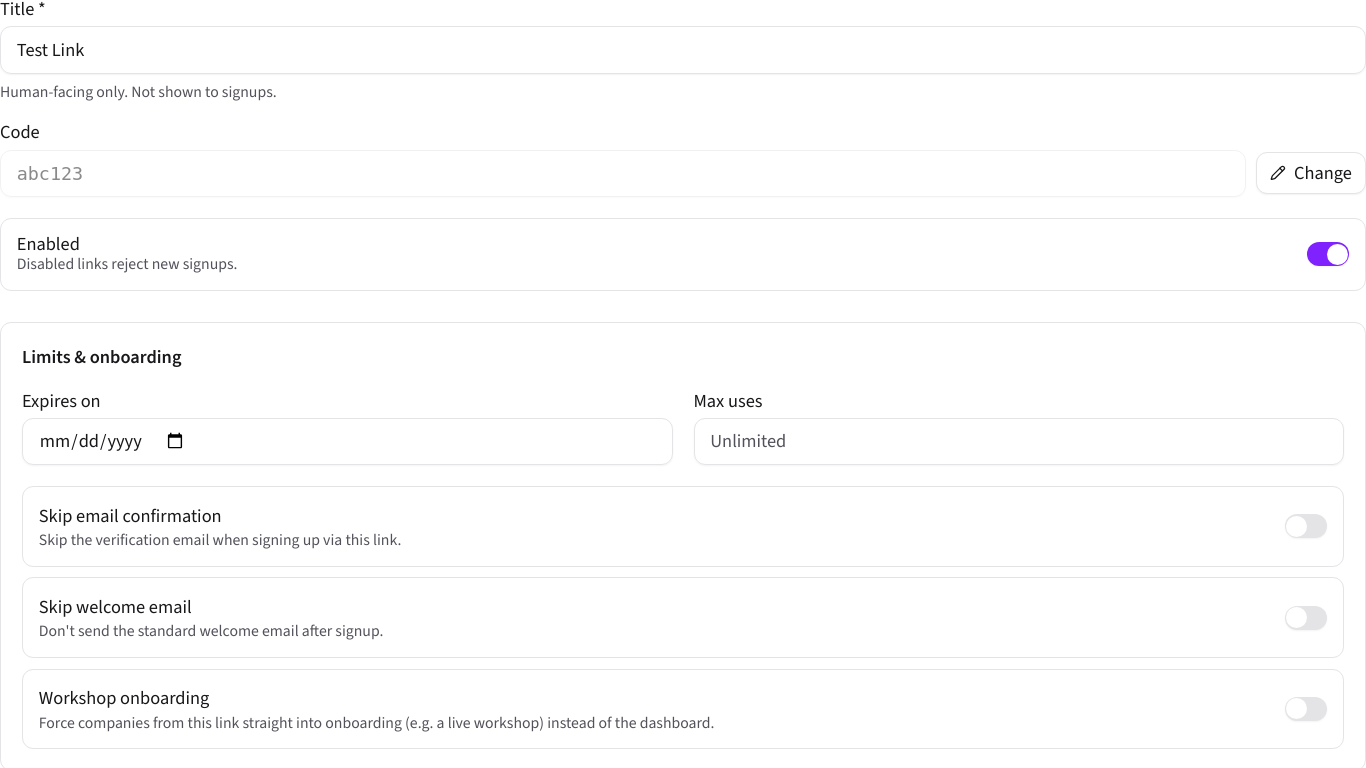
Scenario: SignupLinkForm — edit › confirming the dialog unlocks the code field for editing
Click the button "Change". click: x=1311, y=173
box: [1256,152,1365,194]
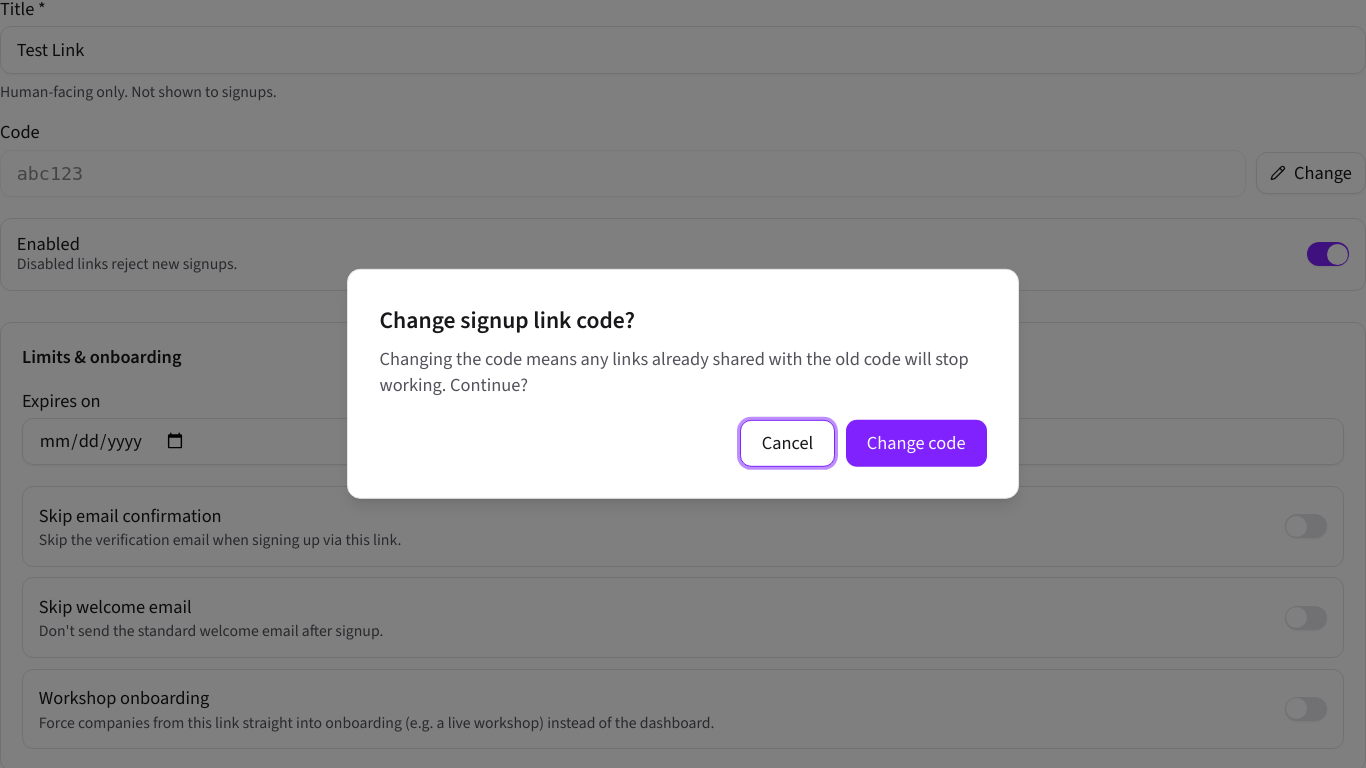
Click the button "Change code". click: x=916, y=443
box: [846,419,986,467]
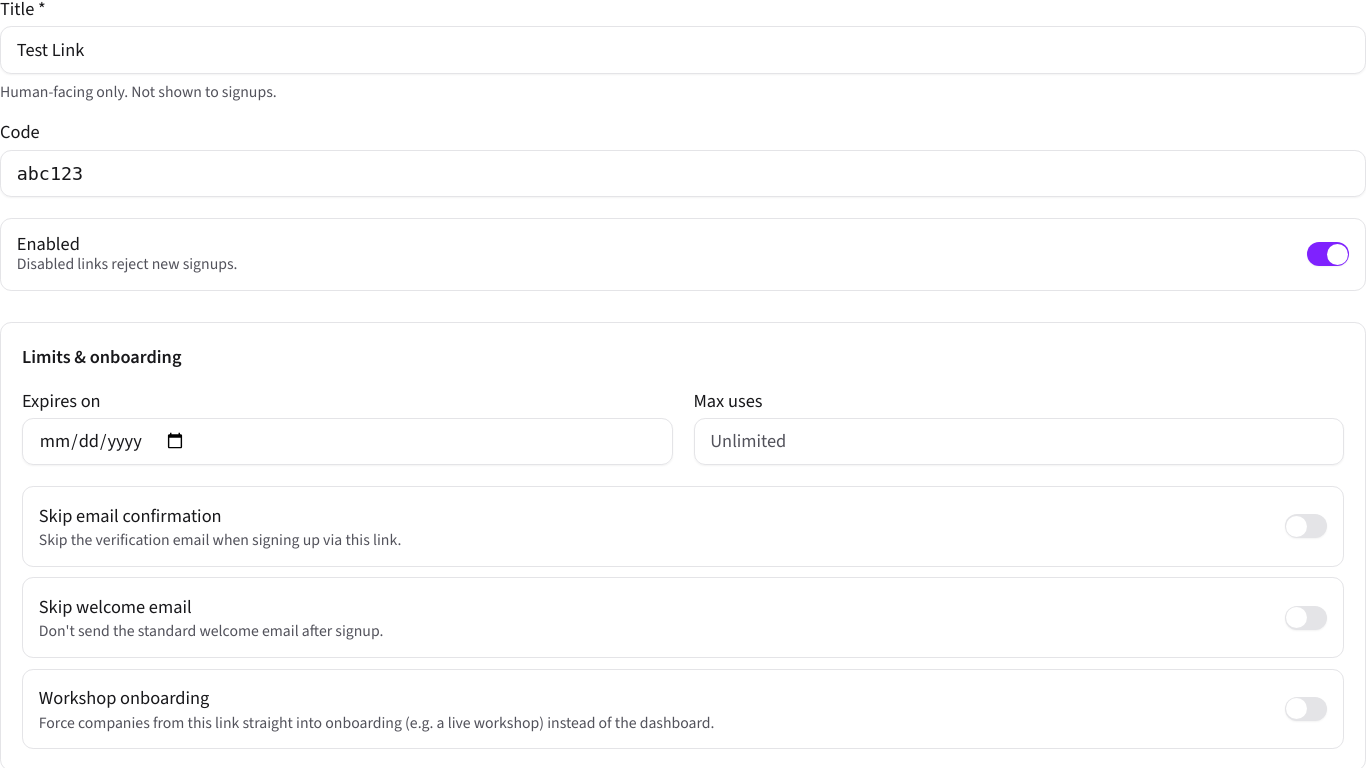
Now the field labelled "Code" is enabled, box [0,150,1365,197]
